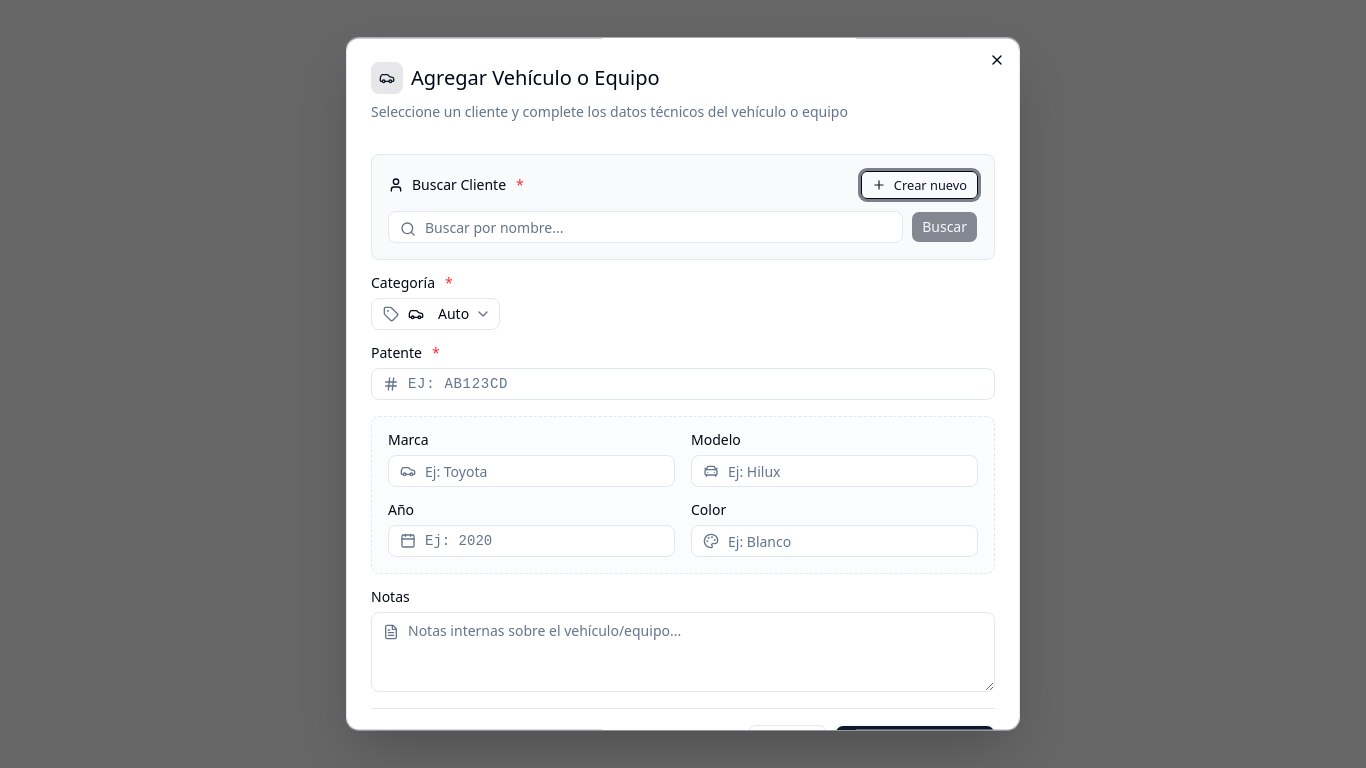
Scenario: VehicleDialog - Inline Customer Creation with Argentine Phone Validation › should open customer inline creation form when clicking 'Crear nuevo'
# Click on "Crear nuevo" button
What coordinates should you click on to do the following:
click the button "Crear nuevo"
I would click on:
 (919, 185)
Its box is 861,171 -> 978,199.
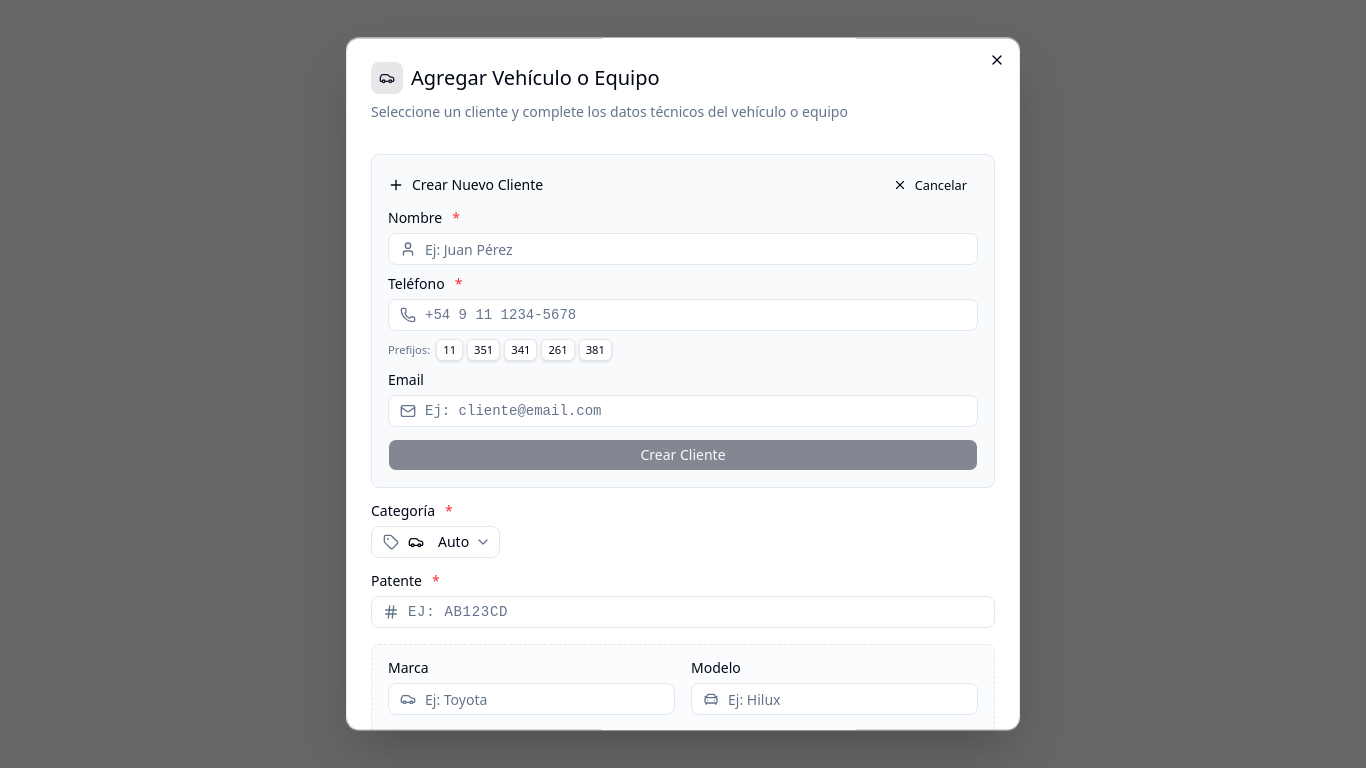
Expected: the field labelled "Nombre *" is shown, 388,233 -> 978,265
Expected: the field labelled "Teléfono *" is shown, 388,299 -> 978,331
Expected: the field labelled "Email" is shown, 388,395 -> 978,427
